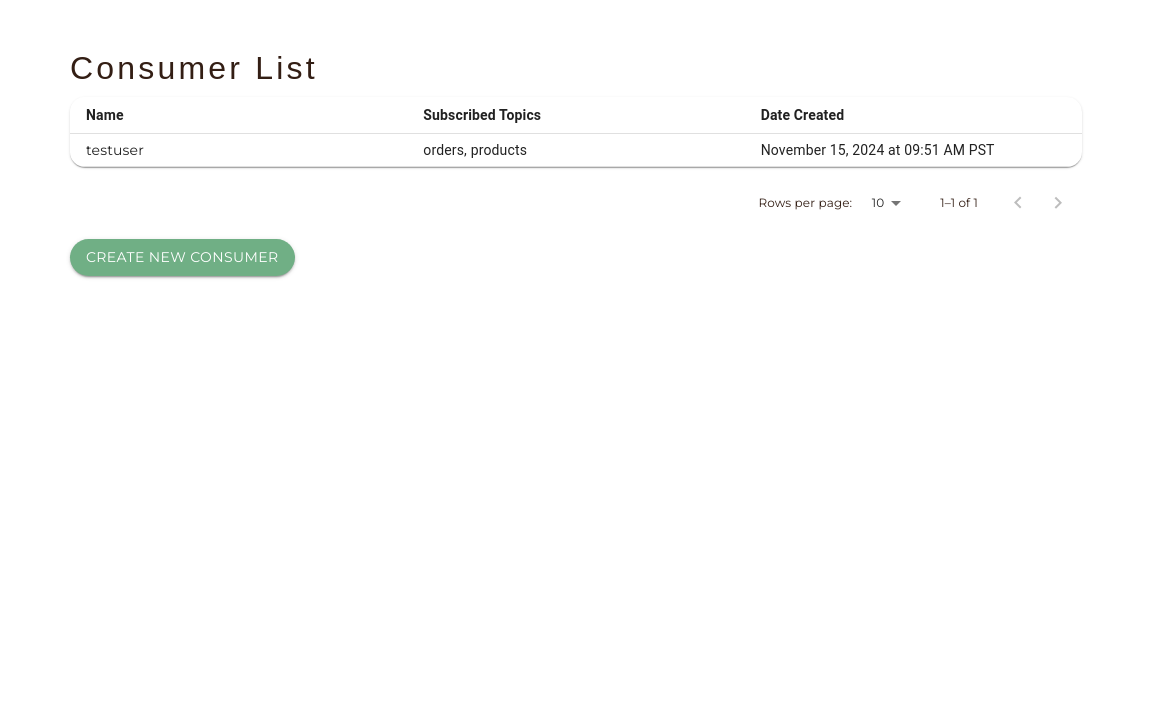
Test: Testing Consumers component › Clicking delete button in consumer details deletes consumer
Click the link "testuser": click(115, 150) [86,141,144,159]
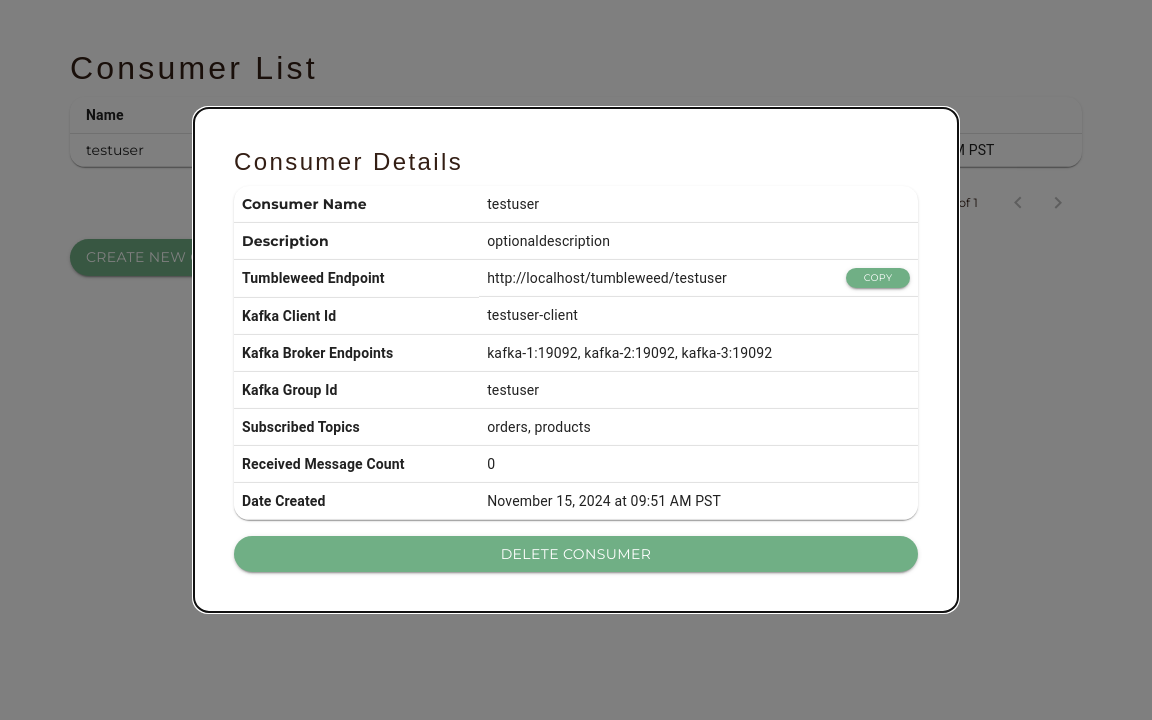
Result: the button "Delete Consumer" is shown
Click the button "Delete Consumer": click(576, 554) [234,536,918,572]
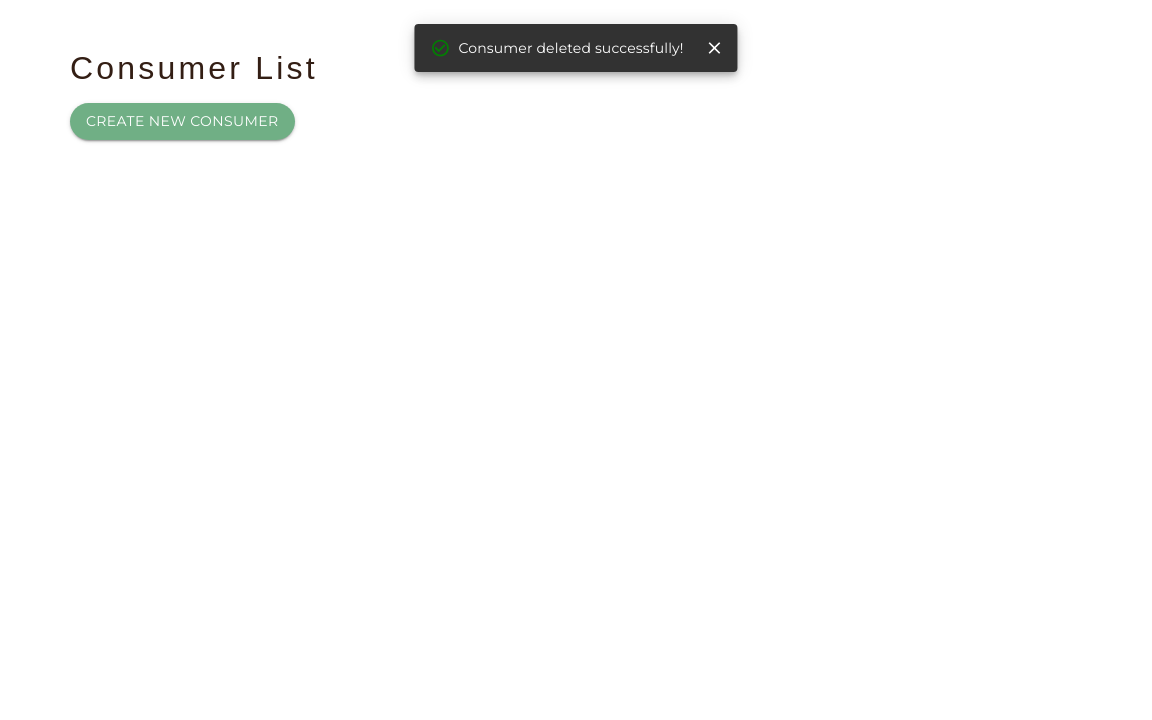
Result: the text "Consumer deleted successfully!" is shown at [430,38,684,58]
